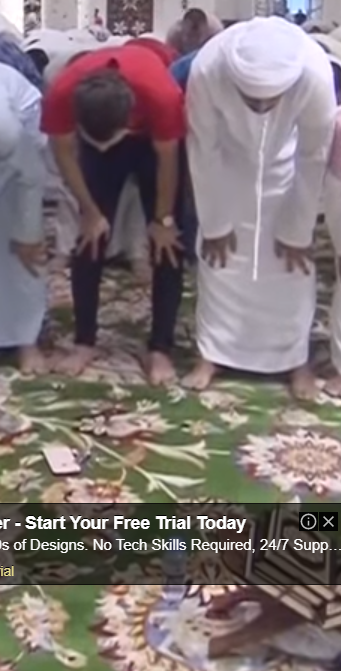ruku: (185, 16, 336, 393), (38, 45, 186, 384)
